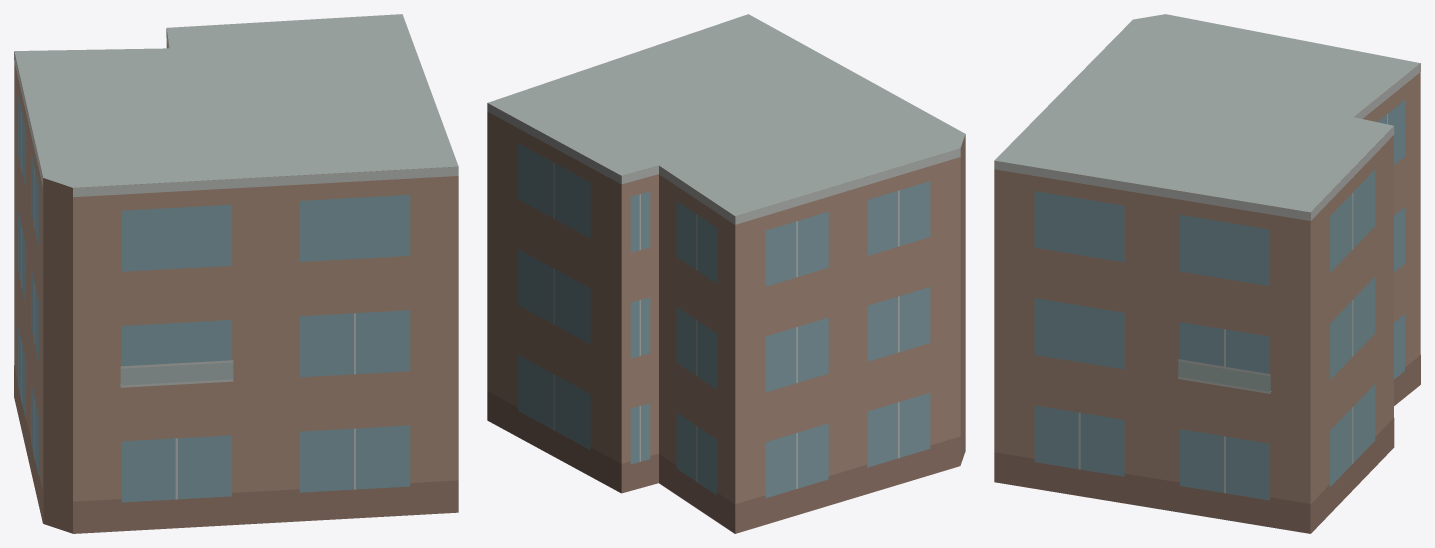
File: survey-upis-32664755.glb
3 renders of one model, left to right at view 1: azimuth 30°, elevation 25°; view 2: azimuth 150°, elevation 25°; view 3: azimuth 270°, elevation 25°, orthographic. The views are drawn at different scales.
Parts seen in each view (by area): view 1: survey-upis-32664755.tmp; view 2: survey-upis-32664755.tmp; view 3: survey-upis-32664755.tmp.
Part boxes in pixels (x1,y1,x2,y2): survey-upis-32664755.tmp: (14,14,458,533); survey-upis-32664755.tmp: (487,14,965,533); survey-upis-32664755.tmp: (994,14,1420,533).
Bounding box in the file's own units: 11.92 × 9 × 10.83.
